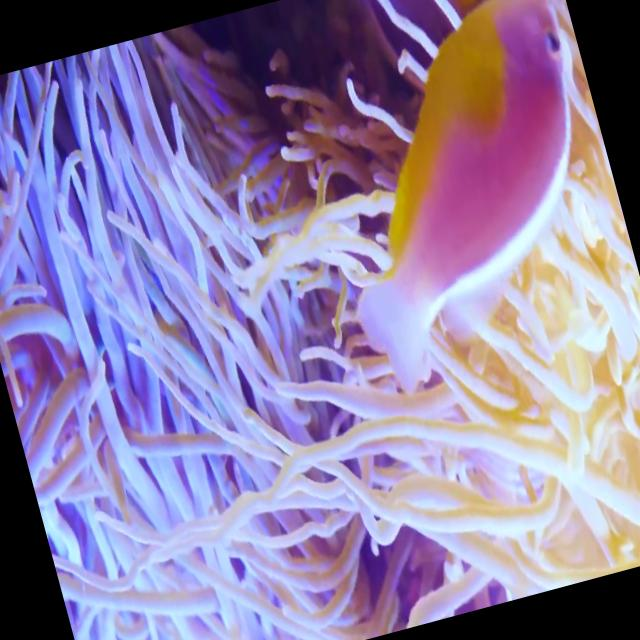fish: (299, 0, 636, 378)
